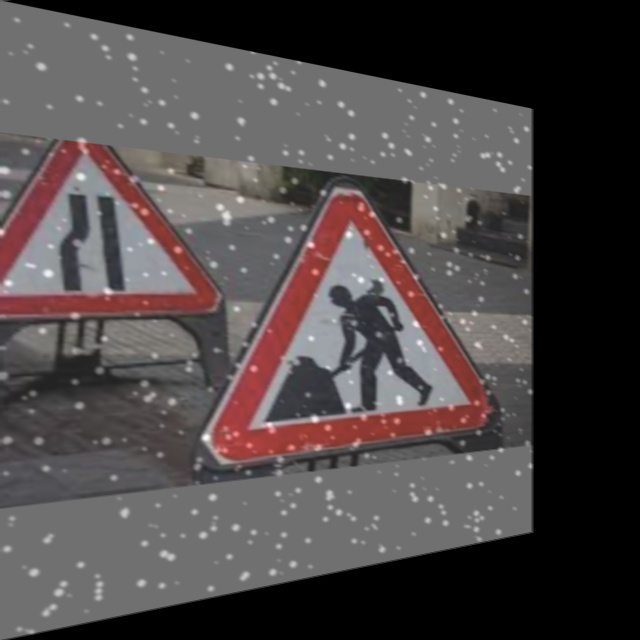Men_at_Work: (203, 195, 487, 474)
